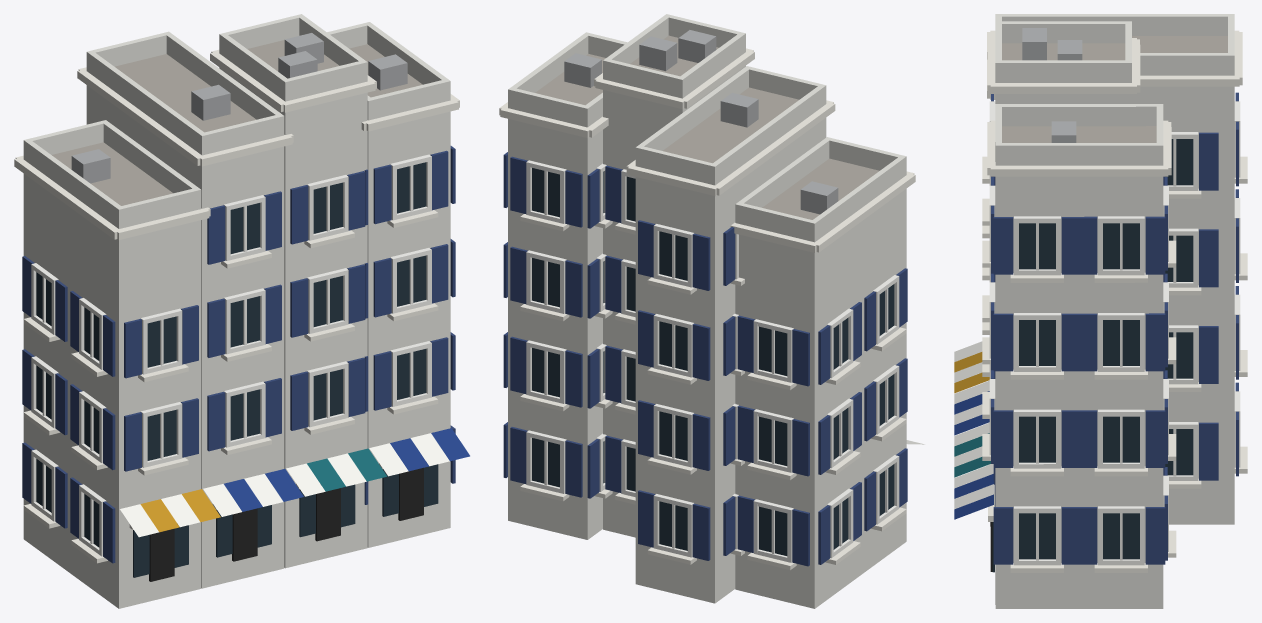
3 views of the same model, side by side, from view 1: azimuth 30°, elevation 25°; view 2: azimuth 150°, elevation 25°; view 3: azimuth 270°, elevation 25° (orthographic). The views are drawn at different scales.
Visible parts, largest first — view 1: b7085; view 2: b7085; view 3: b7085.
Boxes of the visible parts, box(x1,y1,x2,y2) form: b7085: box(14, 14, 469, 608); b7085: box(499, 14, 924, 608); b7085: box(954, 14, 1247, 608).
Bounding box in the file's own units: 5163 × 6805 × 3577.
